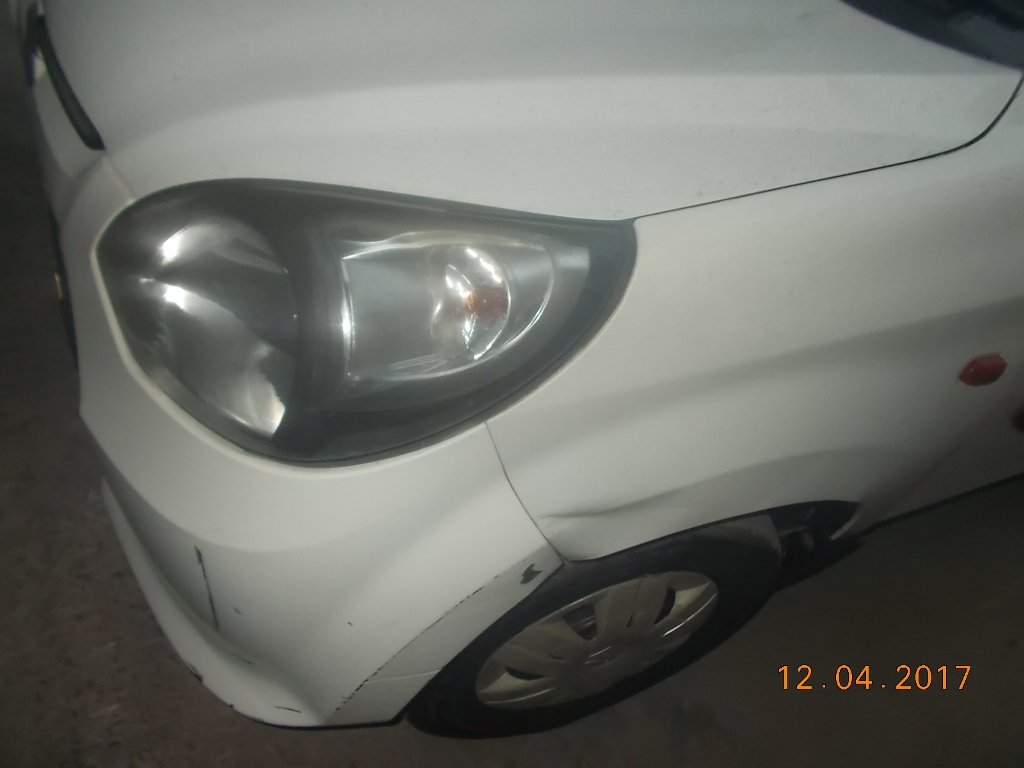Scratch_or_spot: (187, 541, 234, 638), (516, 557, 547, 588)
